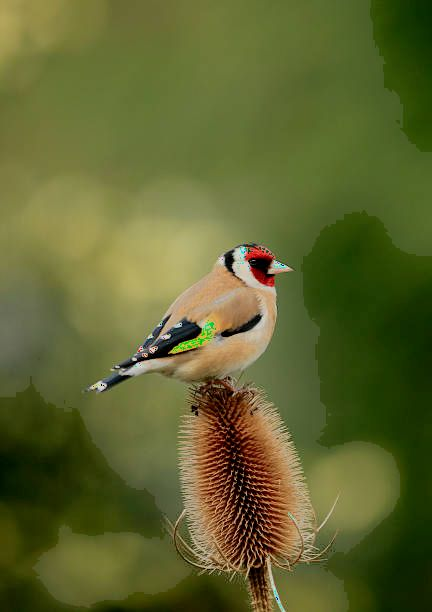Bird: (84, 237, 296, 400)
